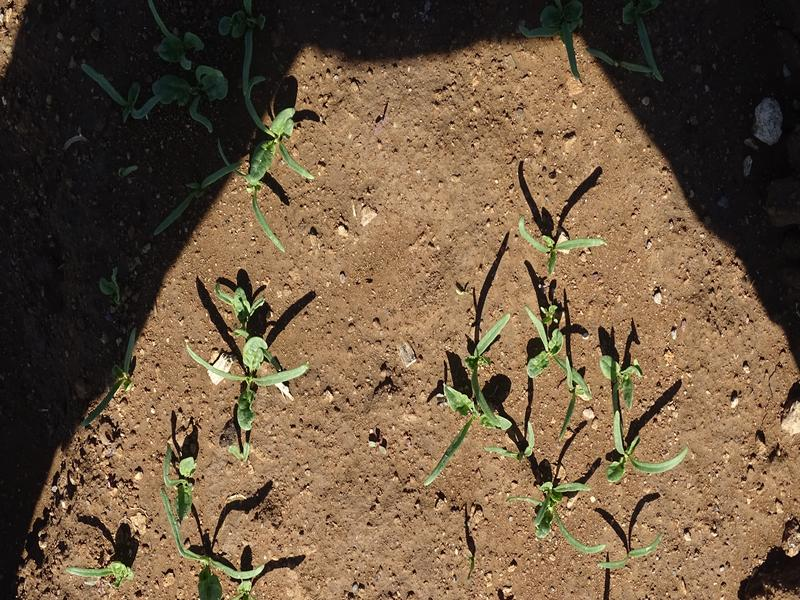Espinaca: (440, 220, 679, 573), (82, 22, 331, 262), (157, 276, 295, 591), (59, 547, 144, 587)
